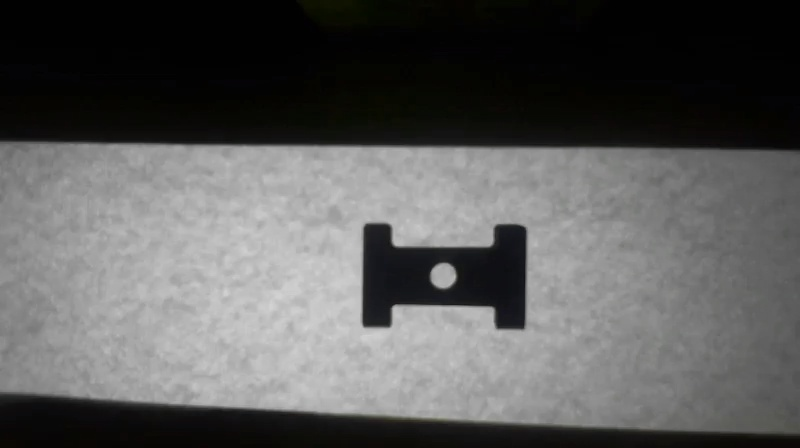O002: (356, 220, 529, 330)
